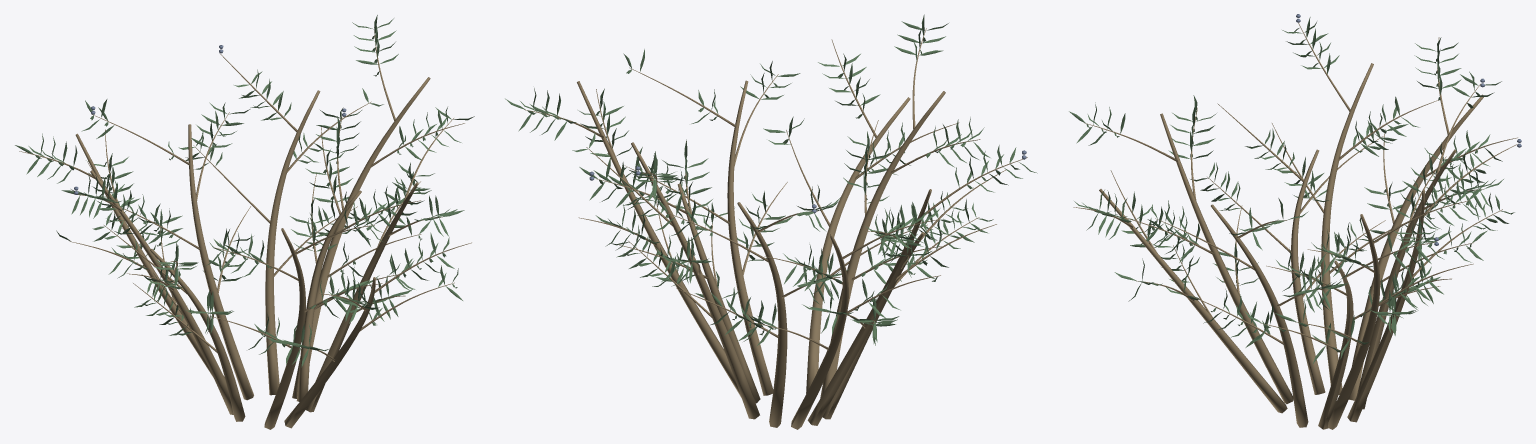
Rendered from Romarin_0_Niveau1.fbx.
3 views of the same model, side by side, from view 1: azimuth 30°, elevation 25°; view 2: azimuth 150°, elevation 25°; view 3: azimuth 270°, elevation 25° (orthographic). The views are drawn at different scales.
Parts seen in each view (by area): view 1: Romarin_0_Niveau1_Jeu; view 2: Romarin_0_Niveau1_Jeu; view 3: Romarin_0_Niveau1_Jeu.
Boxes of the visible parts, bbox=[...] form: Romarin_0_Niveau1_Jeu: bbox=[15, 15, 474, 429]; Romarin_0_Niveau1_Jeu: bbox=[505, 14, 1037, 429]; Romarin_0_Niveau1_Jeu: bbox=[1069, 14, 1521, 429].
Size of the model in its own units: 57.56 by 41.39 by 53.27.
